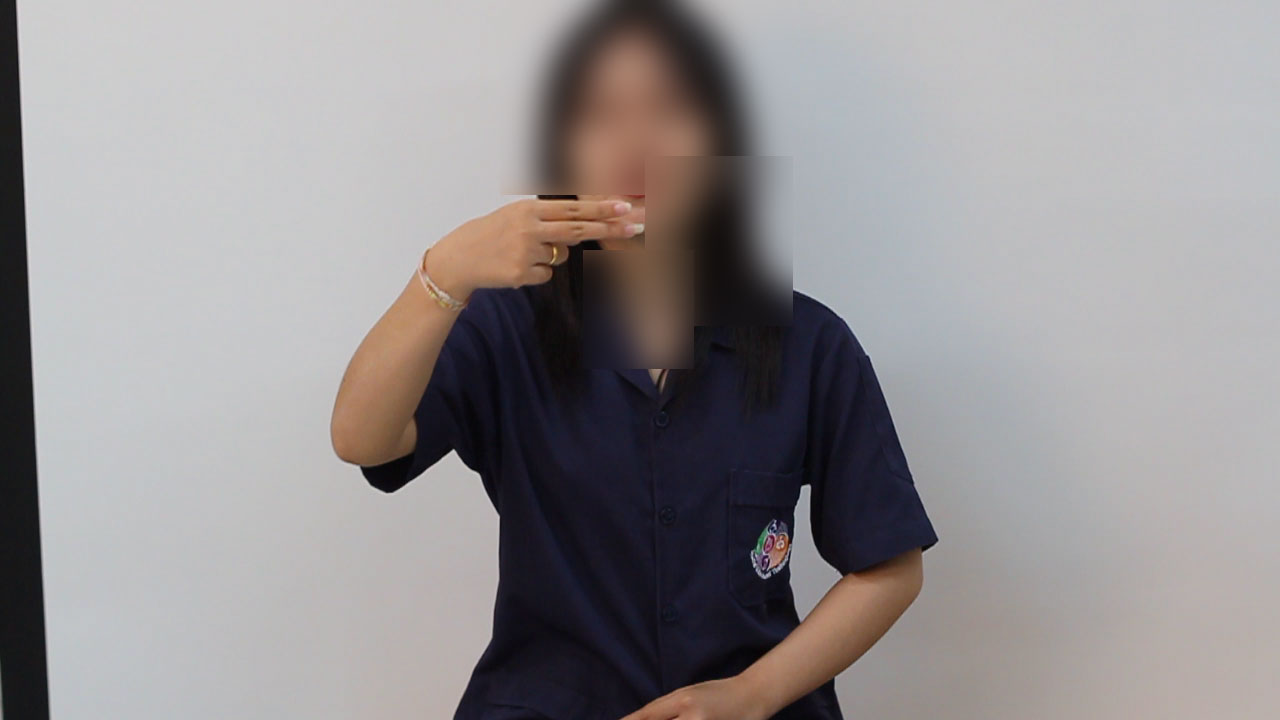hor: (413, 186, 655, 312)
